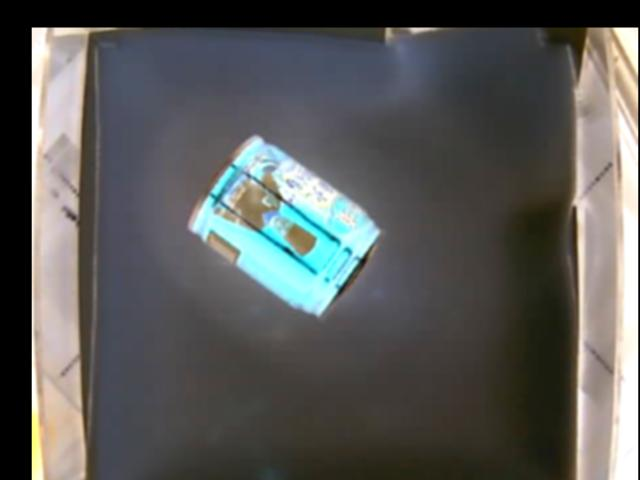Bottle: (189, 134, 383, 318)
